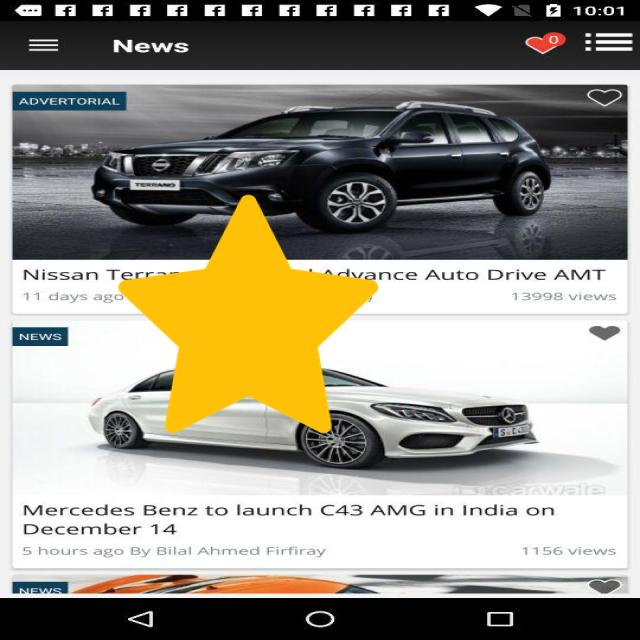forced continuity: (119, 195, 378, 433)
